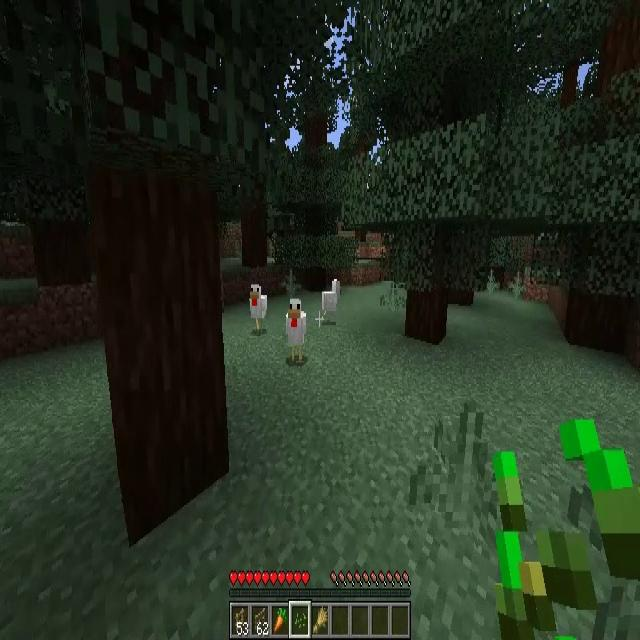duck: (285, 299, 306, 360), (250, 284, 268, 332), (322, 280, 340, 326)
